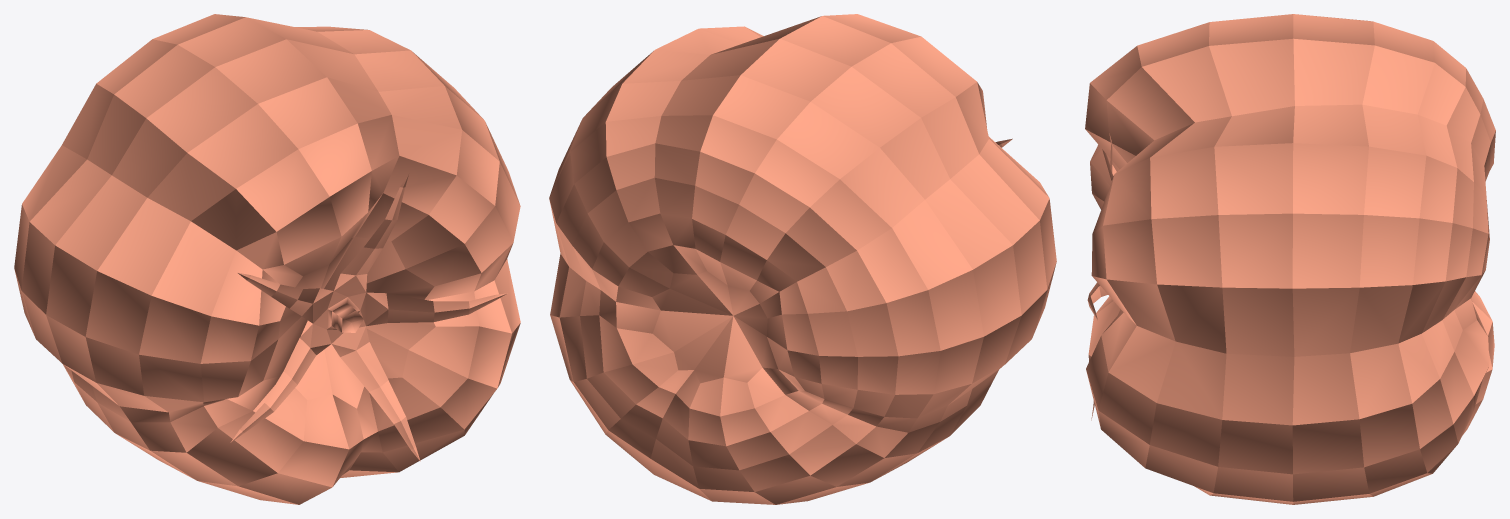
The model's file is MeshTomatoA3Mesh_0.obj.
The picture shows the model from 3 angles, left to right: view 1: azimuth 30°, elevation 25°; view 2: azimuth 150°, elevation 25°; view 3: azimuth 270°, elevation 25°; orthographic projection. The views are drawn at different scales.
Parts seen in each view (by area): view 1: TomatoA3Mesh; view 2: TomatoA3Mesh; view 3: TomatoA3Mesh.
Part boxes in pixels (x1,y1,x2,y2): TomatoA3Mesh: (14, 14, 520, 504); TomatoA3Mesh: (549, 14, 1056, 504); TomatoA3Mesh: (1085, 14, 1495, 504).
Bounding box in the file's own units: 0.0936 × 0.0889 × 0.075.
